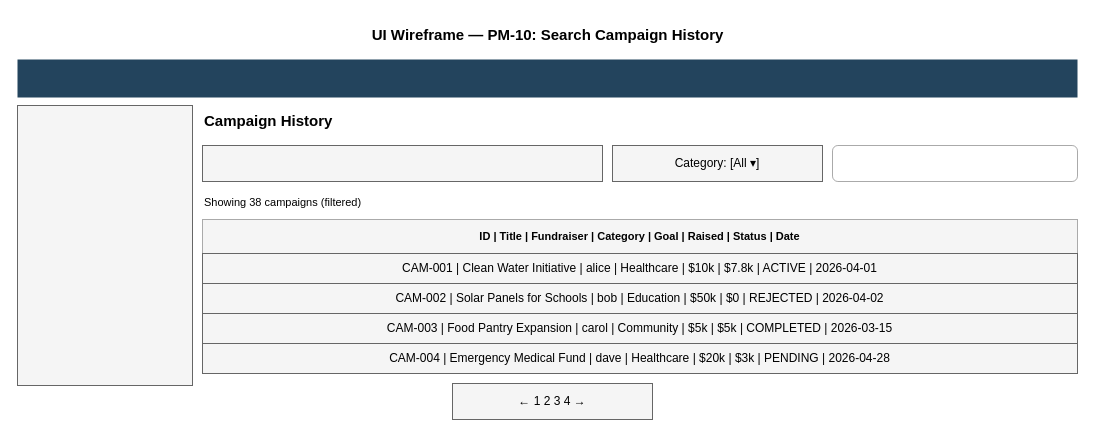
This 1095x437 diagram has some shape labels left out. Here are the shapes that lost their labels. From the top down, the centre of each, then its label:
At pixel 547 78: "Hello Goodbye | Browse Campaigns Donations Notifications [Logout]".
At pixel 402 163: "Status: [PENDING ✕] [ACTIVE ✕] [REJECTED ✕]".
At pixel 955 163: "🔍 Keyword search...".
At pixel 104 245: "📋 Dashboard ✅ Review Campaigns 📁 Campaign History 📊 Reports ⚙ Config".
